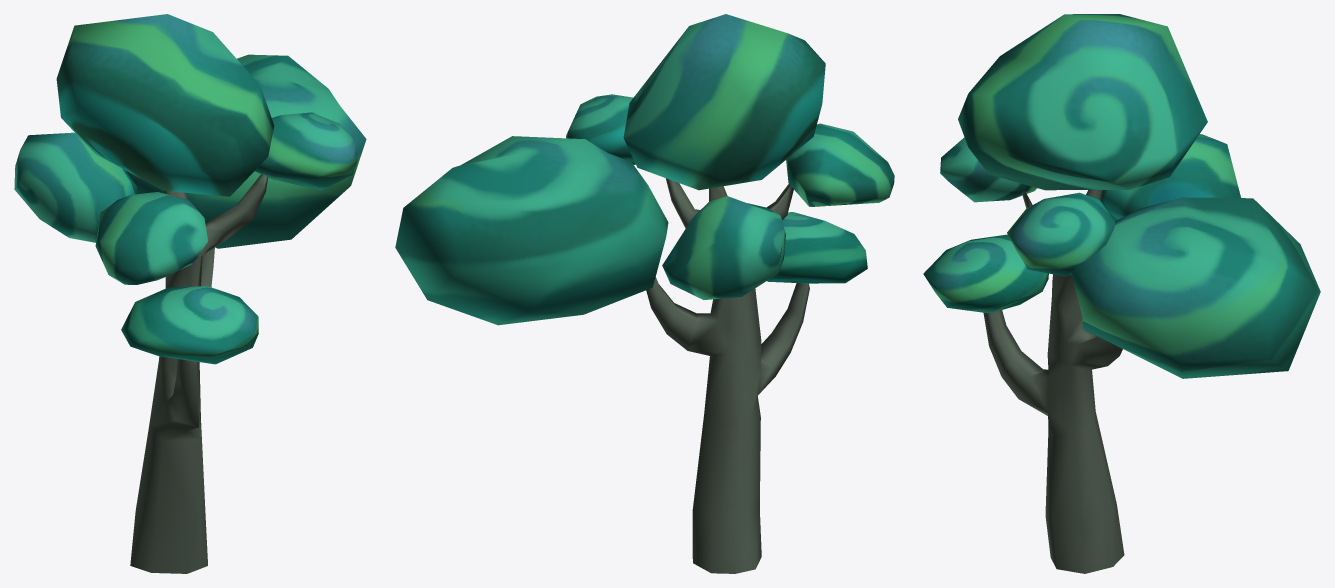
The model's file is tree_H.fbx.
3 views of the same model, side by side, from view 1: azimuth 30°, elevation 25°; view 2: azimuth 150°, elevation 25°; view 3: azimuth 270°, elevation 25° (orthographic). The views are drawn at different scales.
Visible parts, largest first — view 1: treeB; view 2: treeB; view 3: treeB.
Part boxes in pixels (x1=…): treeB: x1=14, y1=14, x2=366, y2=573; treeB: x1=395, y1=14, x2=894, y2=573; treeB: x1=923, y1=14, x2=1320, y2=573.
Bounding box in the file's own units: 241 × 356 × 240.
